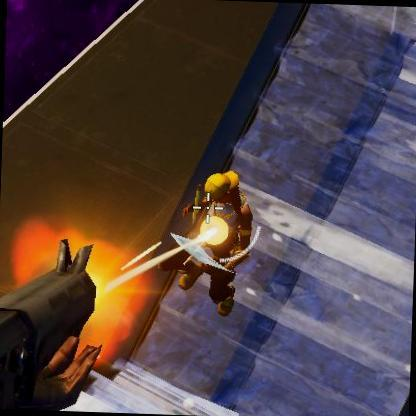person: (184, 176, 240, 320)
